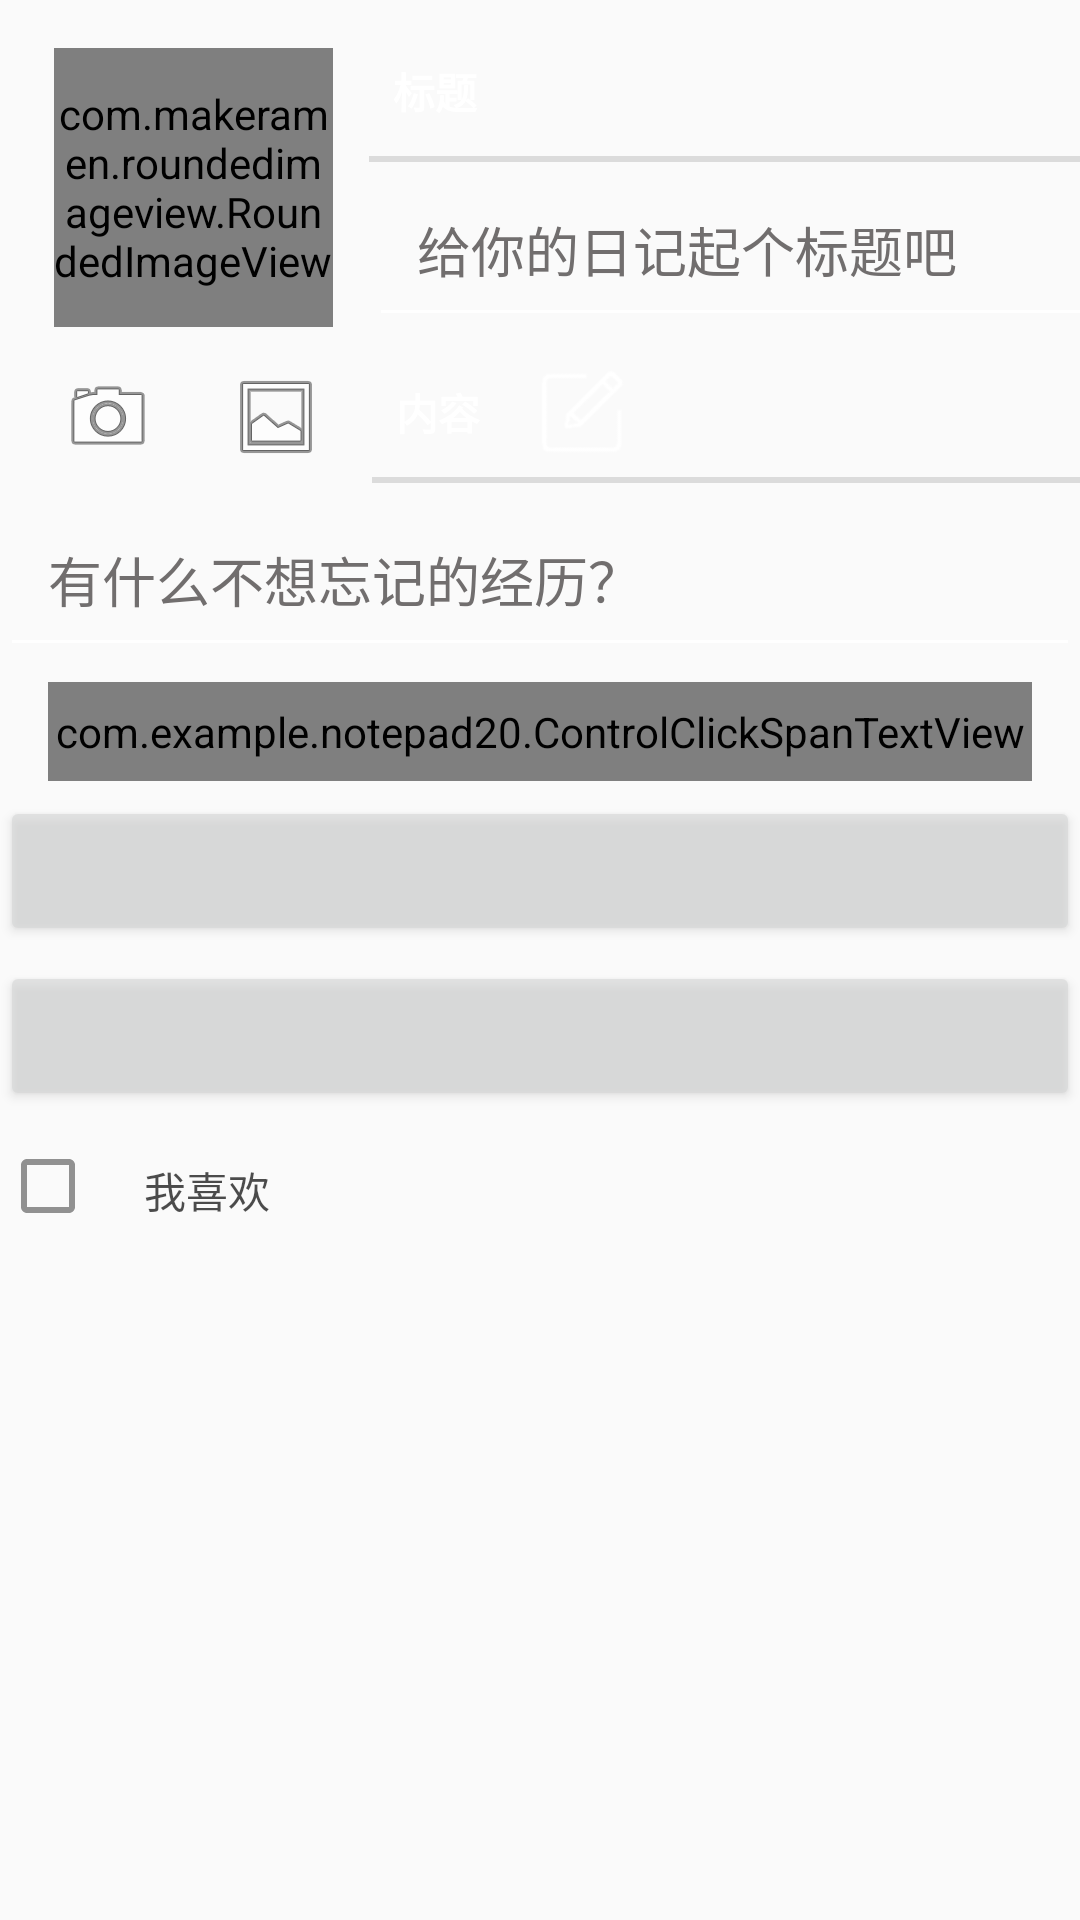

Named icons in this screenshot (1080px x 1920px) and their centers, point (x, y):
camera: point (108, 415)
gallery: point (276, 417)
